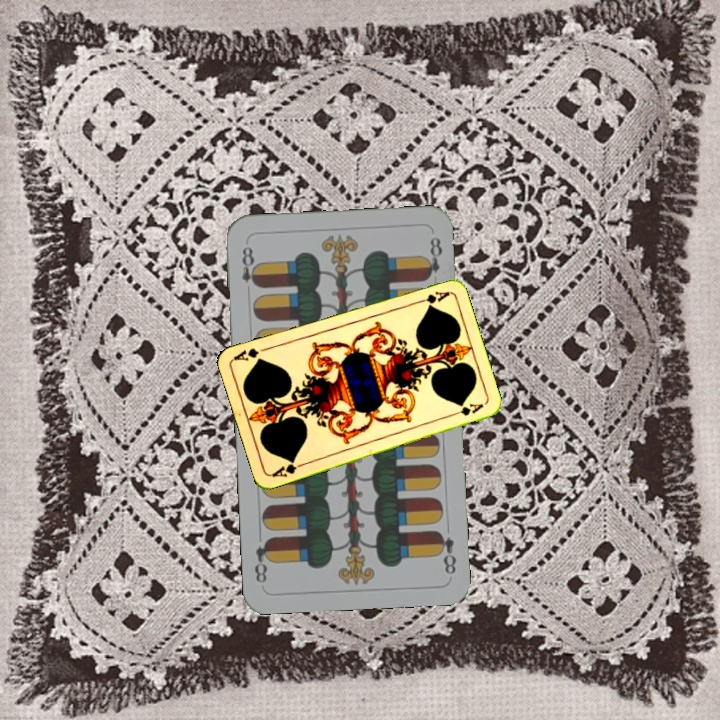E8: (433, 526, 459, 577), (238, 239, 261, 290)
GA: (268, 456, 307, 480), (411, 287, 451, 307)
